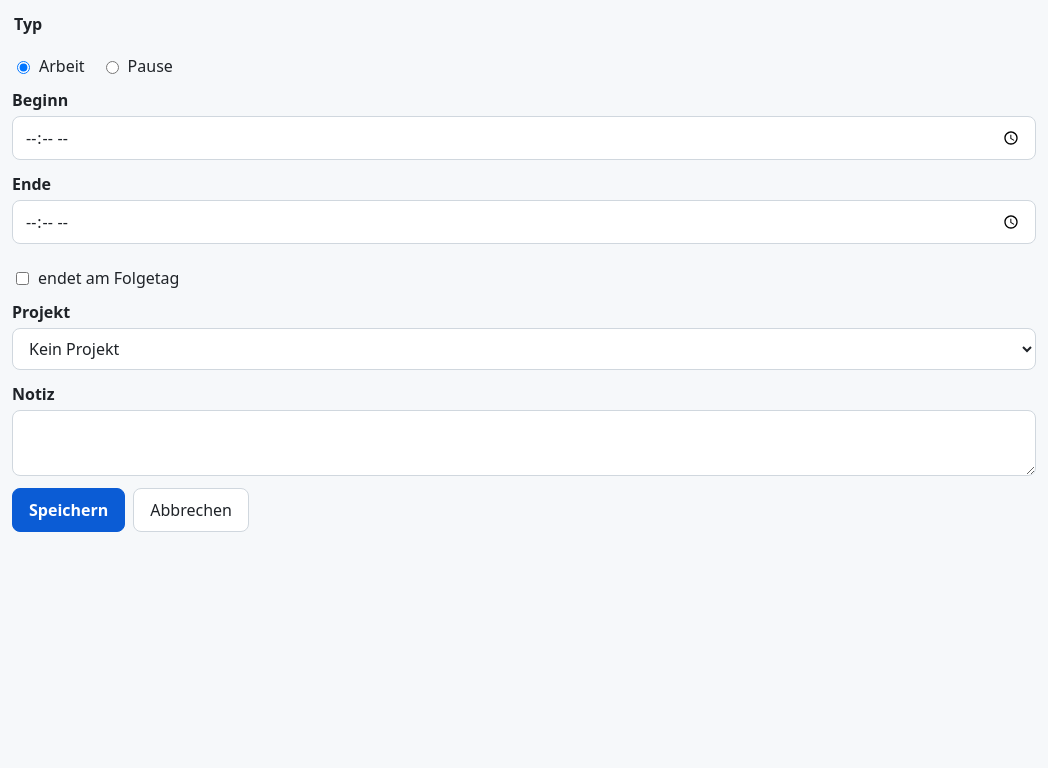
Test: EntryForm: add mode › rejects a start in the future
The width and height of the screenshot is (1048, 768).
Type "16:00" into the time field labelled "Beginn". click: {"x": 524, "y": 138}
box: [12, 116, 1036, 160]
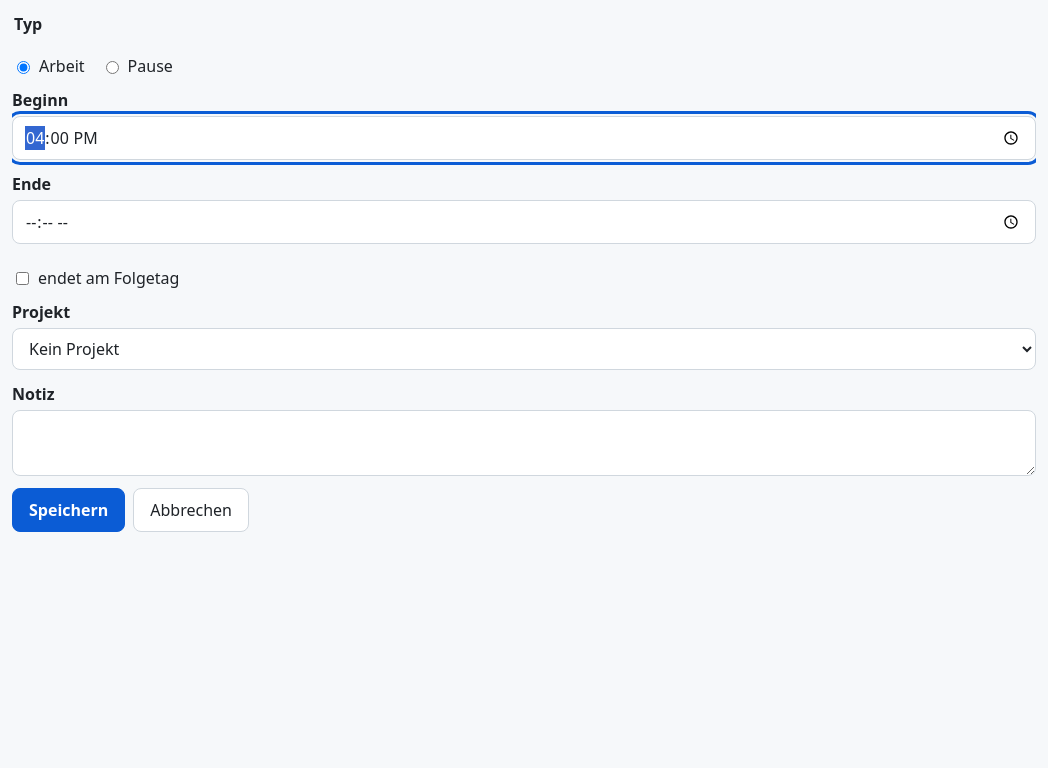
Type "17:00" into the time field labelled "Ende". click: {"x": 524, "y": 222}
box: [12, 200, 1036, 244]
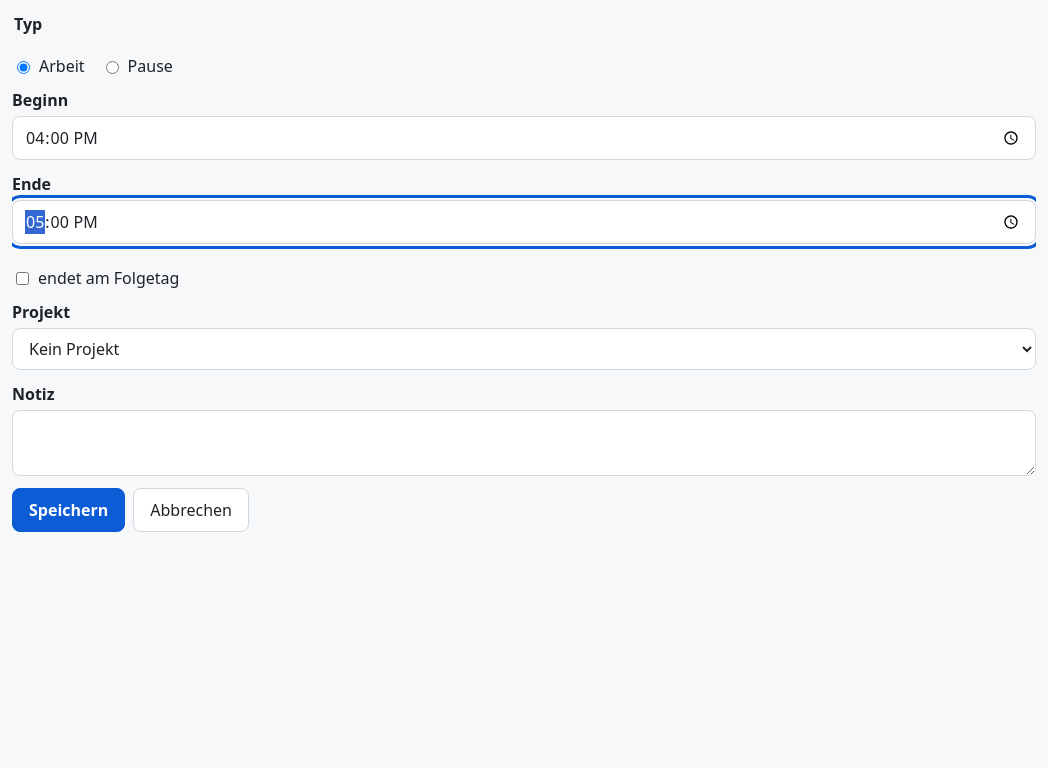
Click the button "Speichern". click: {"x": 69, "y": 510}
box: [12, 488, 125, 532]
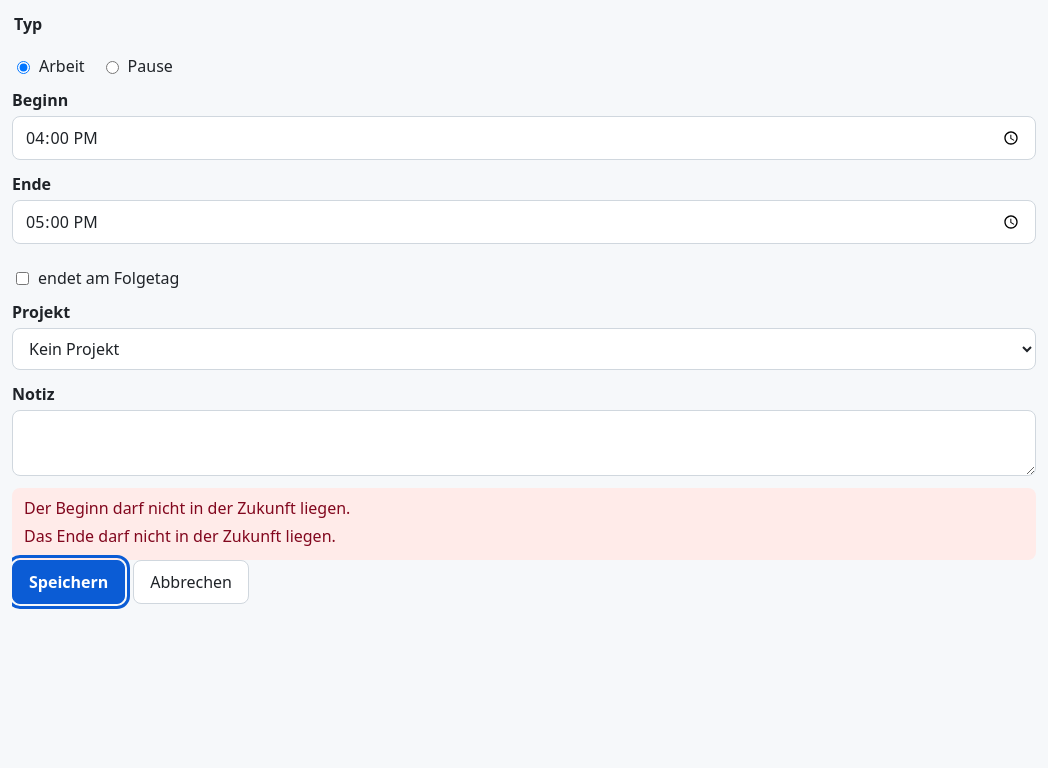
Result: the message shows "Der Beginn darf nicht in der Zukunft liegen." at [24, 497, 350, 519]
